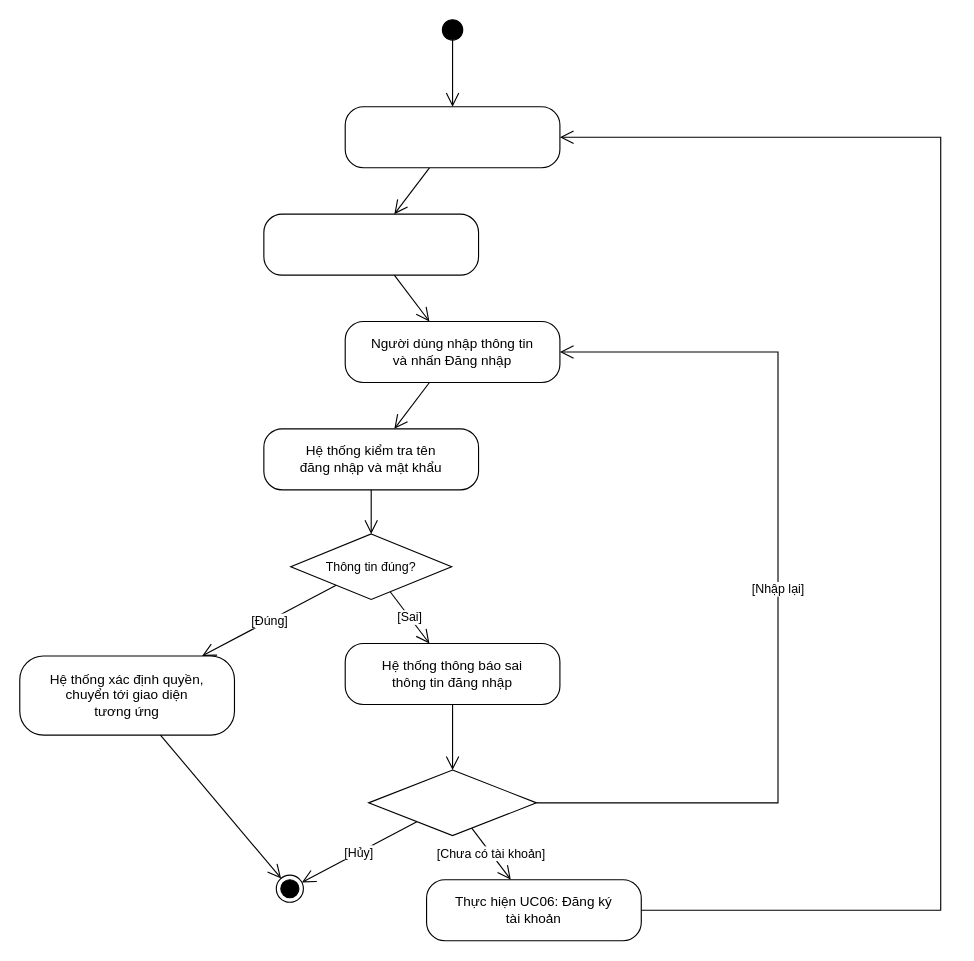
The diagram is 974 pixels wide and 961 high, and some of its shapes have lost their labels. Each missing label, with the box of its shape:
Hệ thống hiển thị form đăng nhập: (263, 213, 479, 275)
Người dùng chọn Đăng nhập: (344, 106, 560, 168)
Người dùng chọn?: (367, 769, 537, 836)
